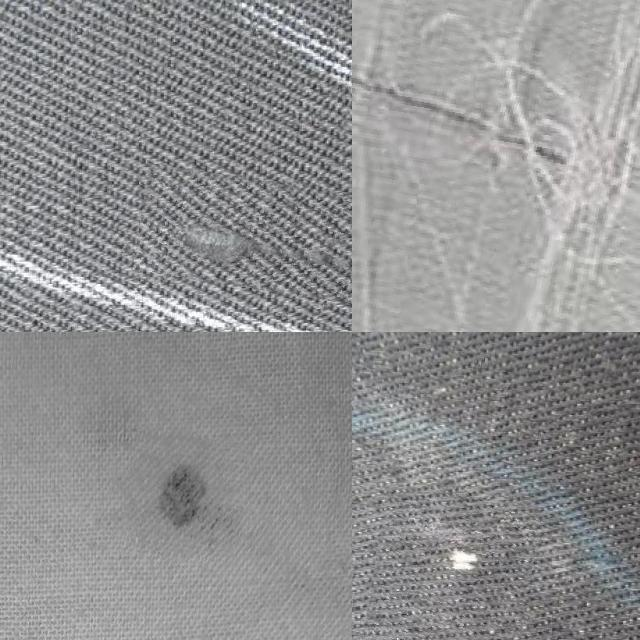Hole: (122, 431, 247, 566)
Thread_other: (352, 0, 640, 332), (136, 174, 352, 306), (365, 488, 535, 640)
